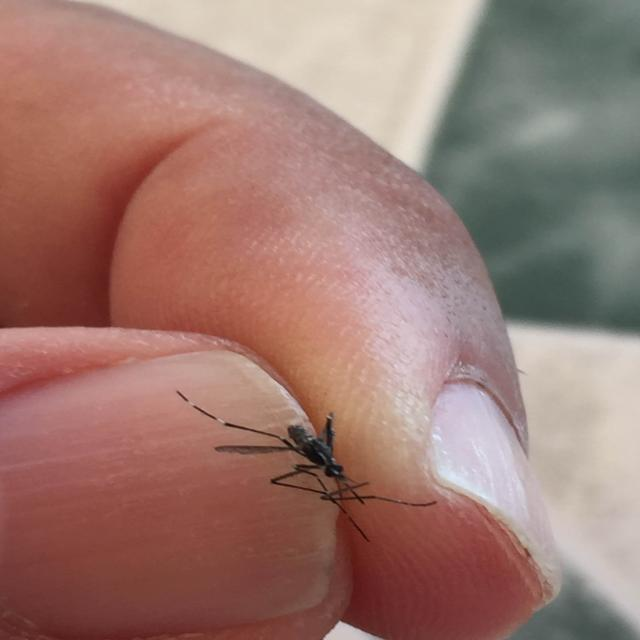albopictus: (171, 374, 433, 550)
